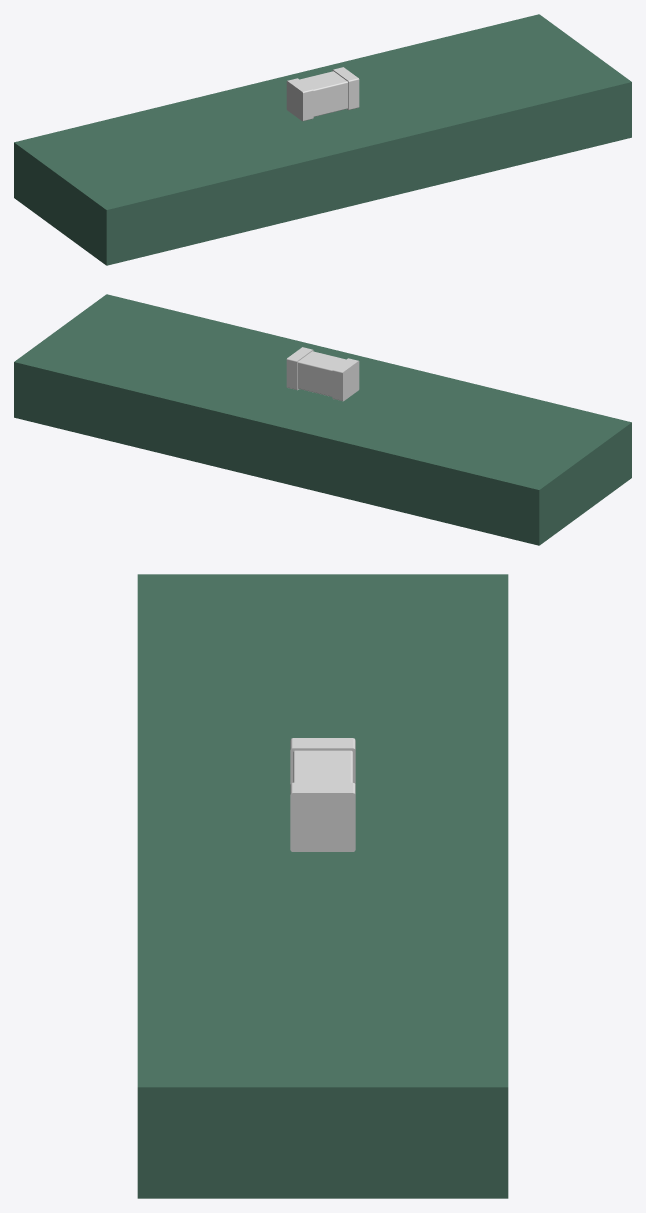
The model's file is Capacitor_SMD_C_0603_1608Metric.glb.
3 views of the same model, one above another, from view 1: azimuth 30°, elevation 25°; view 2: azimuth 150°, elevation 25°; view 3: azimuth 270°, elevation 25° (orthographic). The views are drawn at different scales.
Visible parts, largest first — view 1: =>[0:1:1:3], REF**; view 2: =>[0:1:1:3], REF**; view 3: =>[0:1:1:3], REF**.
Part boxes in pixels (<box>): =>[0:1:1:3]: <box>14,14,631,265</box>; REF**: <box>286,67,359,121</box>; =>[0:1:1:3]: <box>14,294,631,545</box>; REF**: <box>286,347,359,401</box>; =>[0:1:1:3]: <box>137,574,508,1198</box>; REF**: <box>290,738,355,851</box>.
Bounding box in the file's own units: 0.0149 × 0.00239 × 0.00456.
